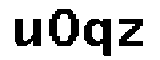0: (47, 4, 80, 52)
q: (83, 17, 114, 59)
u: (8, 14, 43, 52)
z: (115, 16, 147, 52)
